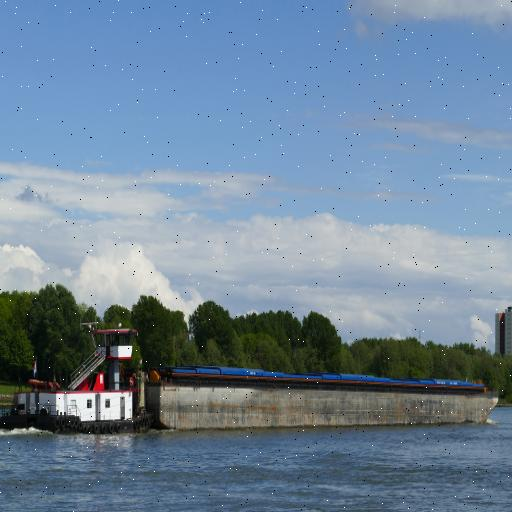tugboat: (1, 320, 161, 441)
